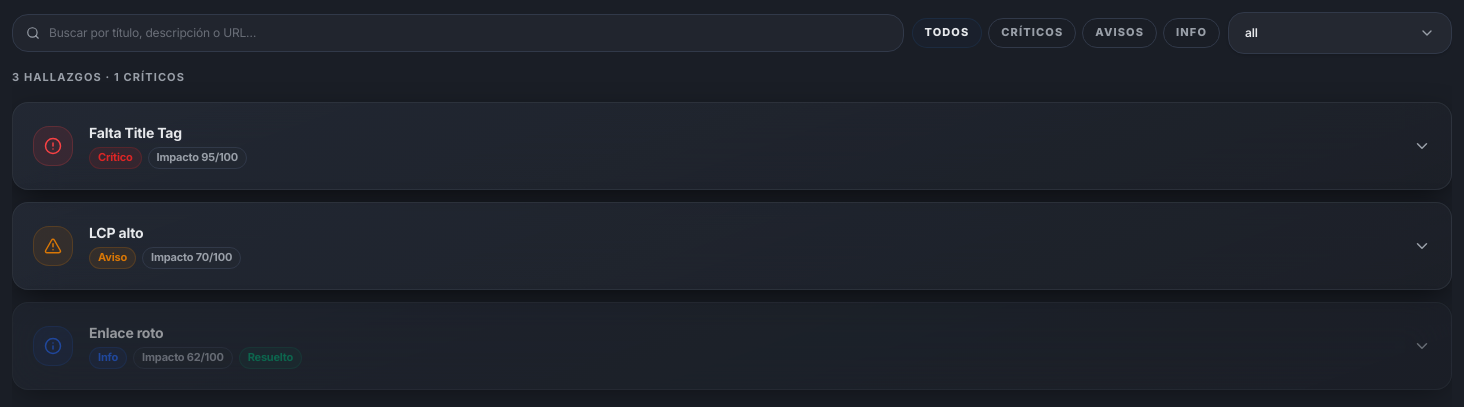
Test: IssueList › filtra por búsqueda y severidad
This screenshot has width=1464, height=407.
Type "lcp" into the search field at (458, 33), box [12, 14, 904, 52]
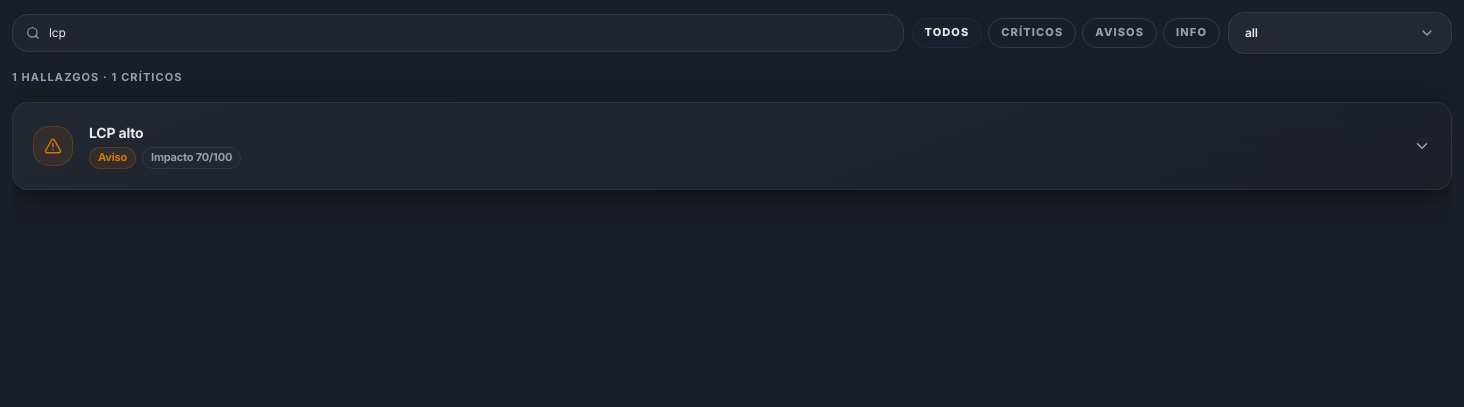
Expected: the text "LCP alto" is shown, [89, 124, 143, 141]
Expected: the button "Falta Title Tag" is gone
Clear the search field at (458, 33), box [12, 14, 904, 52]
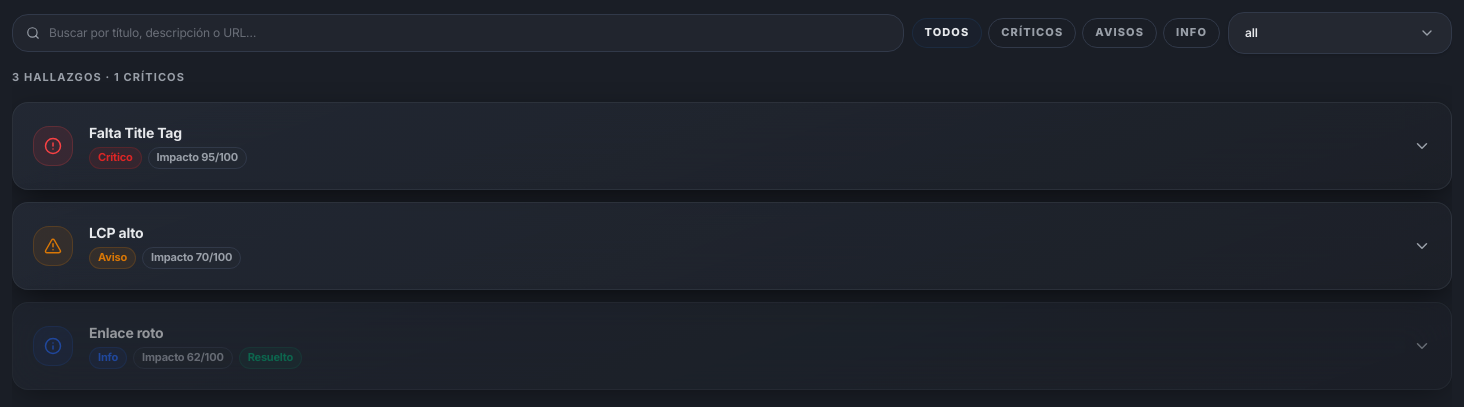
Click the button "Críticos" at (1032, 33), box [988, 18, 1076, 48]
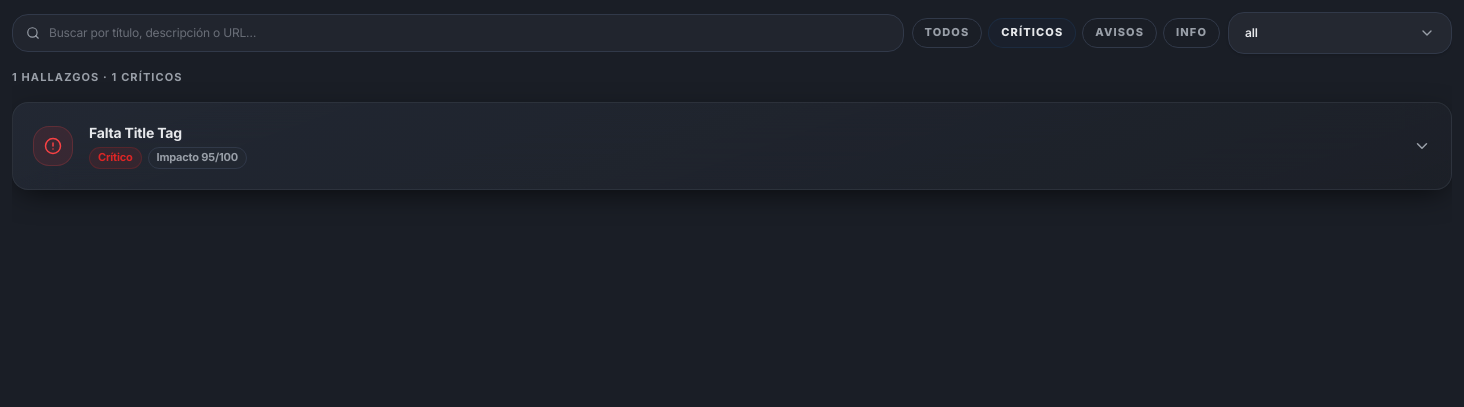
Expected: the text "Falta Title Tag" is shown, [89, 124, 182, 141]
Expected: the button "LCP alto" is gone
